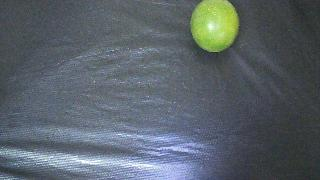LOCAL: (190, 0, 239, 52)
